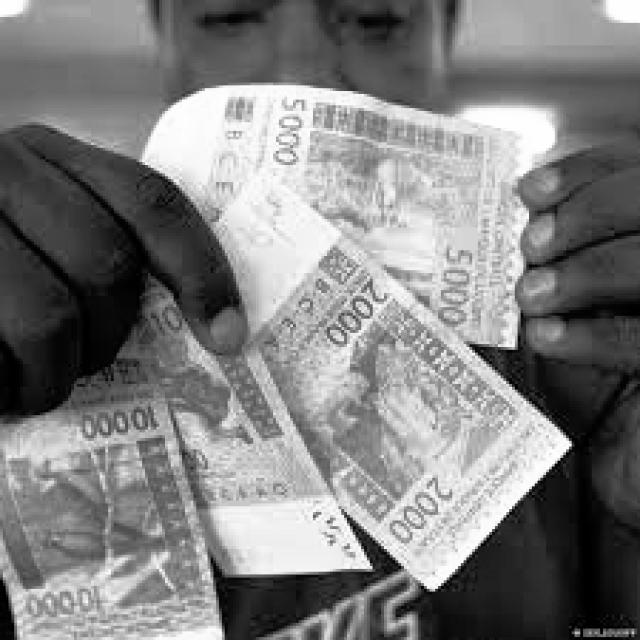junni: (144, 85, 526, 347)
niaar junni: (0, 340, 222, 640)
nient teemeer: (259, 239, 570, 590)
teemeer: (139, 281, 369, 573)
